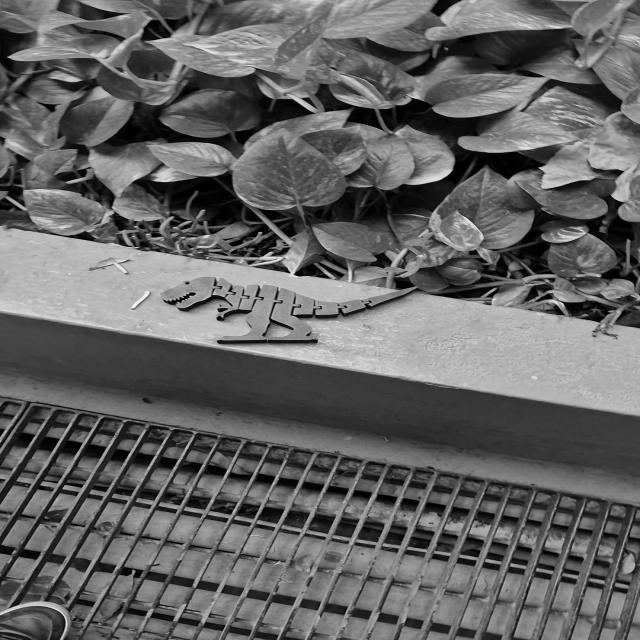dino: (159, 275, 419, 345)
